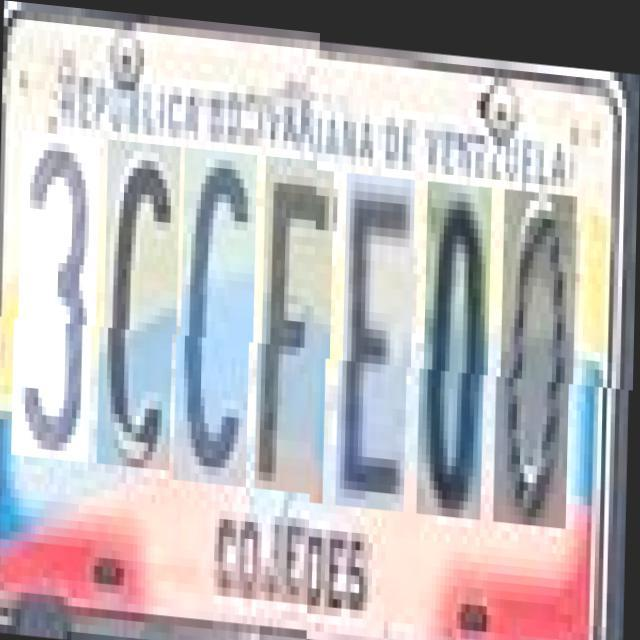3: (18, 138, 100, 469)
C: (180, 152, 258, 491), (103, 146, 181, 476)
E: (342, 165, 416, 504)
F: (260, 158, 334, 497)
O: (500, 178, 578, 517), (422, 172, 492, 510)
